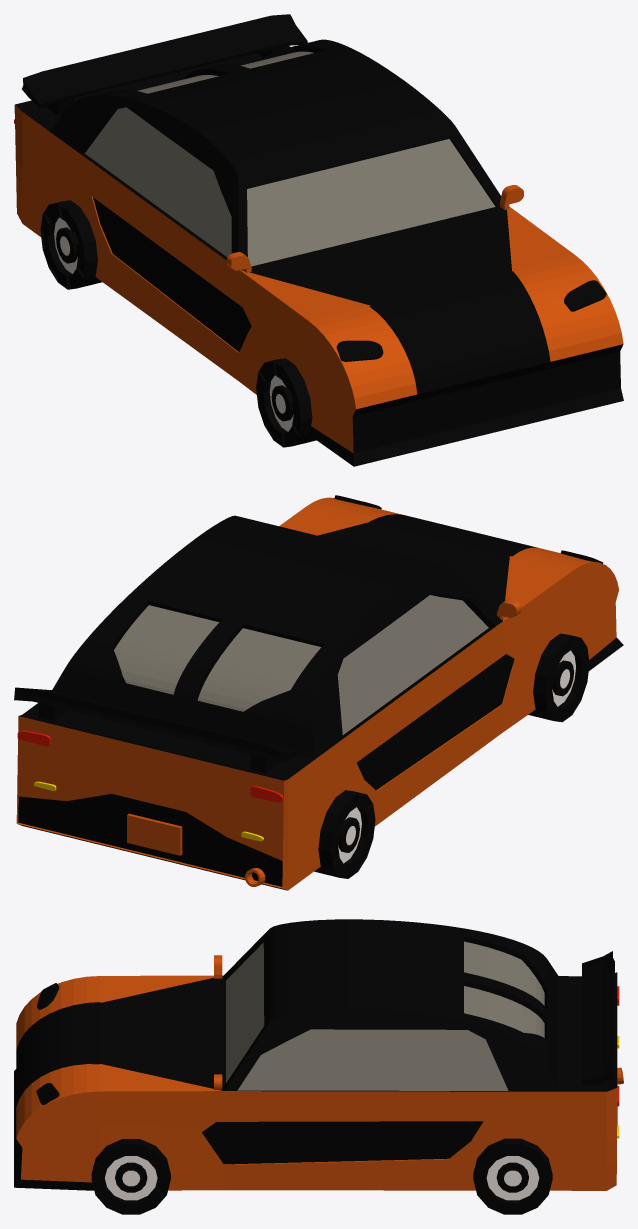
3 views of the same model, one above another, from view 1: azimuth 30°, elevation 25°; view 2: azimuth 150°, elevation 25°; view 3: azimuth 270°, elevation 25° (orthographic). The views are drawn at different scales.
Parts seen in each view (by area): view 1: โครงรถ; view 2: โครงรถ; view 3: โครงรถ.
Boxes of the visible parts, bbox=[...] form: โครงรถ: bbox=[14, 14, 623, 466]; โครงรถ: bbox=[14, 495, 623, 890]; โครงรถ: bbox=[14, 919, 623, 1214].
Size of the model in its own units: 2.2 by 1.51 by 4.46.
